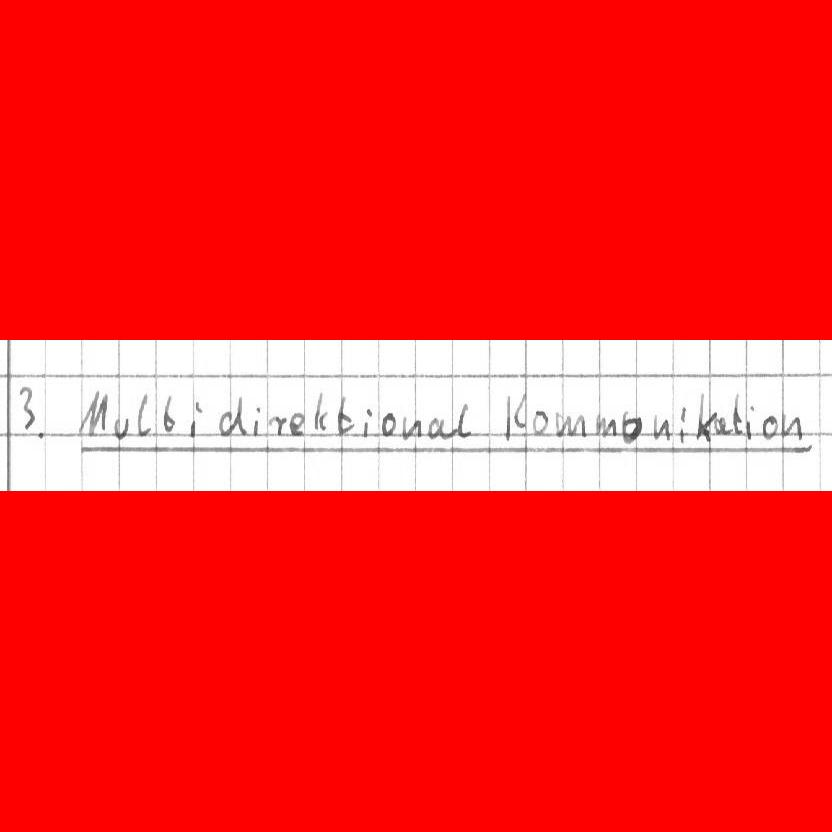Char: (69, 440, 815, 459), (77, 388, 108, 439), (501, 391, 528, 442), (217, 395, 248, 439), (694, 390, 715, 444), (16, 384, 38, 430), (554, 409, 588, 438), (621, 409, 644, 445), (135, 391, 152, 439), (312, 390, 331, 432), (335, 395, 354, 437), (593, 411, 620, 440), (427, 415, 456, 440), (400, 412, 422, 443), (187, 399, 204, 439), (162, 392, 178, 433), (781, 412, 803, 440), (456, 401, 472, 439), (730, 392, 743, 436), (652, 412, 671, 442), (531, 408, 550, 437), (266, 411, 287, 437), (761, 413, 780, 440), (112, 415, 130, 443), (677, 405, 689, 445), (288, 411, 306, 437), (744, 403, 756, 442), (712, 413, 732, 436), (360, 405, 373, 438), (381, 410, 396, 438), (250, 404, 262, 438), (36, 429, 44, 441)
